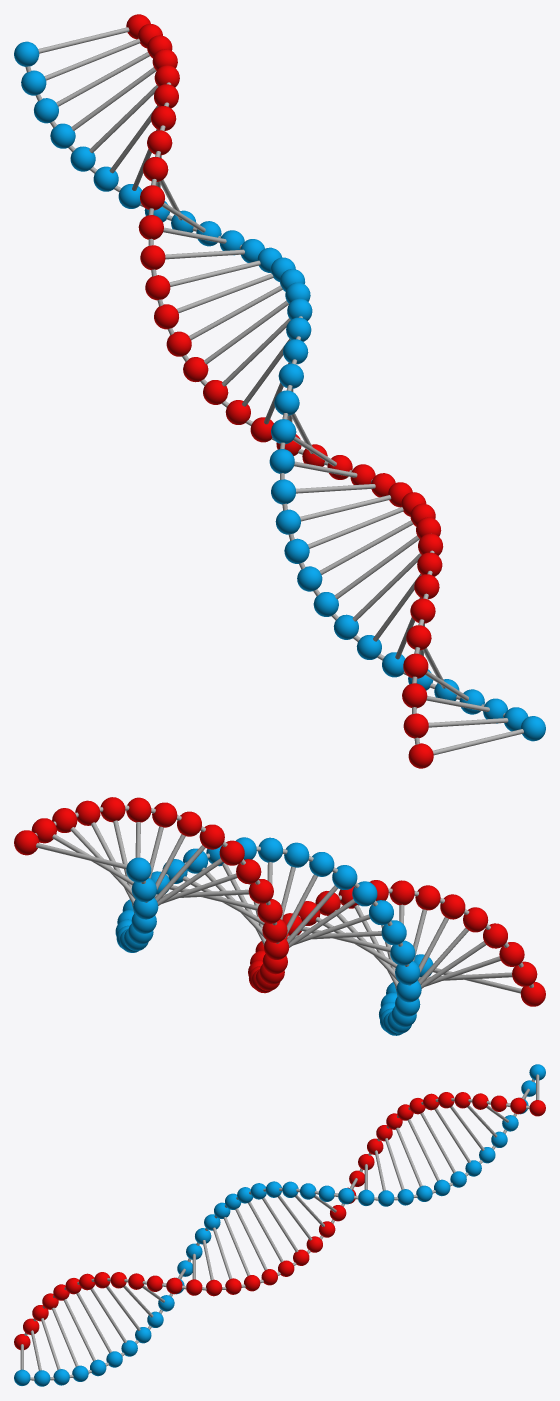
The model's file is dna.glb.
3 renders of one model, top to bottom at view 1: azimuth 30°, elevation 25°; view 2: azimuth 150°, elevation 25°; view 3: azimuth 270°, elevation 25°, orthographic. The views are drawn at different scales.
Parts seen in each view (by area): view 1: no part large enough to name; view 2: Объект_Сфера_1, Объект_Цилиндр, Объект_Сфера_1_17, Объект_Сфера_7, Объект_Сфера_8, Объект_Сфера_9, Объект_Сфера, Объект_Сфера_1_20, Объект_Сфера_30, Объект_Сфера_32, Объект_Сфера_1_18, Объект_Сфера_29 (+56 smaller); view 3: no part large enough to name.
Boxes of the visible parts, <box> form: Объект_Сфера_1: <box>126,857,151,882</box>; Объект_Цилиндр: <box>36,843,126,869</box>; Объект_Сфера_1_17: <box>352,881,377,906</box>; Объект_Сфера_7: <box>440,894,465,919</box>; Объект_Сфера_8: <box>415,885,440,910</box>; Объект_Сфера_9: <box>389,880,414,905</box>; Объект_Сфера: <box>14,830,39,855</box>; Объект_Сфера_1_20: <box>284,842,309,867</box>; Объект_Сфера_30: <box>199,824,224,849</box>; Объект_Сфера_32: <box>152,802,177,827</box>; Объект_Сфера_1_18: <box>332,865,357,889</box>; Объект_Сфера_29: <box>219,840,244,865</box>.
Bounding box in the file's own units: 6.78 × 21.14 × 35.36.
